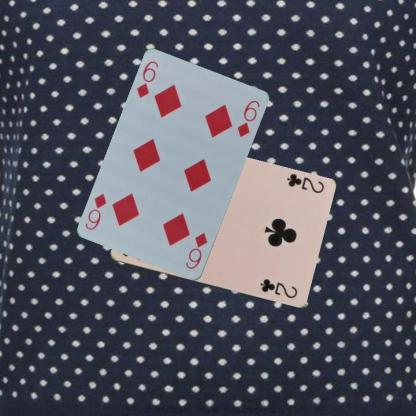2c: (284, 171, 325, 195)
6d: (134, 58, 160, 100), (183, 230, 209, 271)
